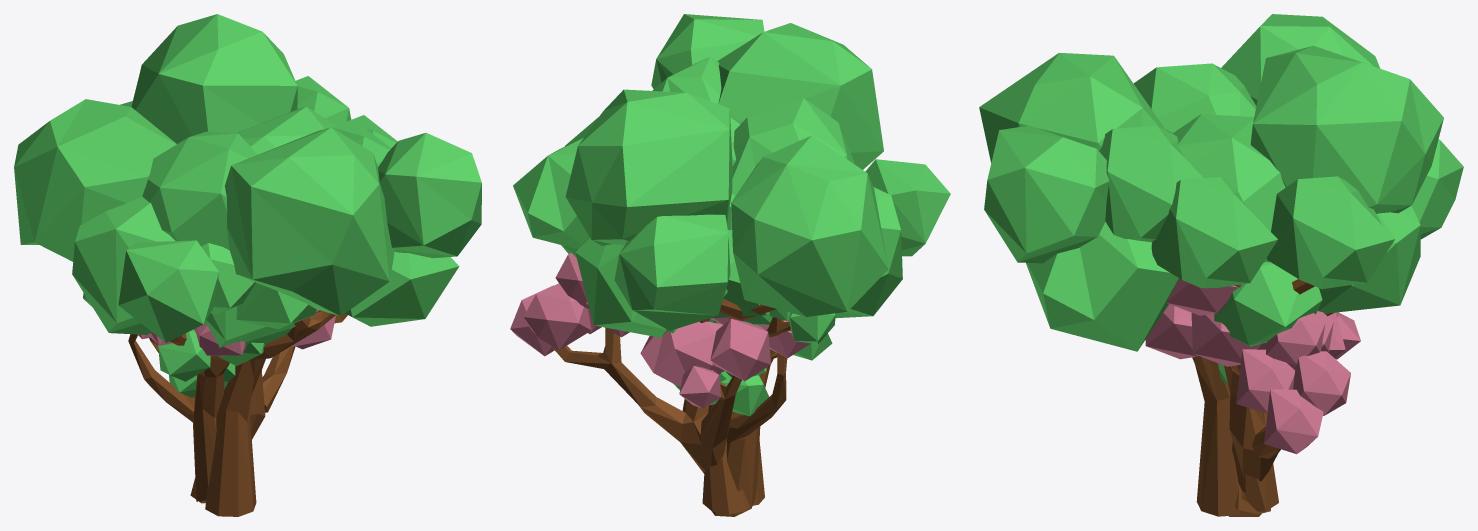
The model's file is LowpolyTrees(collection)1.fbx.
The picture shows the model from 3 angles, left to right: view 1: azimuth 30°, elevation 25°; view 2: azimuth 150°, elevation 25°; view 3: azimuth 270°, elevation 25°; orthographic projection. The views are drawn at different scales.
Visible parts, largest first — view 1: Tree03, Tree02, Tree01, Tree04; view 2: Tree03, Tree01, Tree02, Tree05, Tree04; view 3: Tree03, Tree02, Tree01, Tree05.
Boxes of the visible parts, x1,y1,x2,y2 form: Tree03: (14,14,481,516); Tree02: (72,196,459,501); Tree01: (128,309,347,439); Tree04: (158,329,264,397); Tree03: (513,14,888,505); Tree01: (510,253,810,473); Tree02: (561,159,950,516); Tree05: (667,194,835,514); Tree04: (674,318,832,416); Tree03: (979,14,1463,516); Tree02: (1026,206,1420,514); Tree01: (1145,278,1360,516); Tree05: (1232,440,1278,511).
Size of what is drawn, in the model's own units: 693 by 792 by 733.
